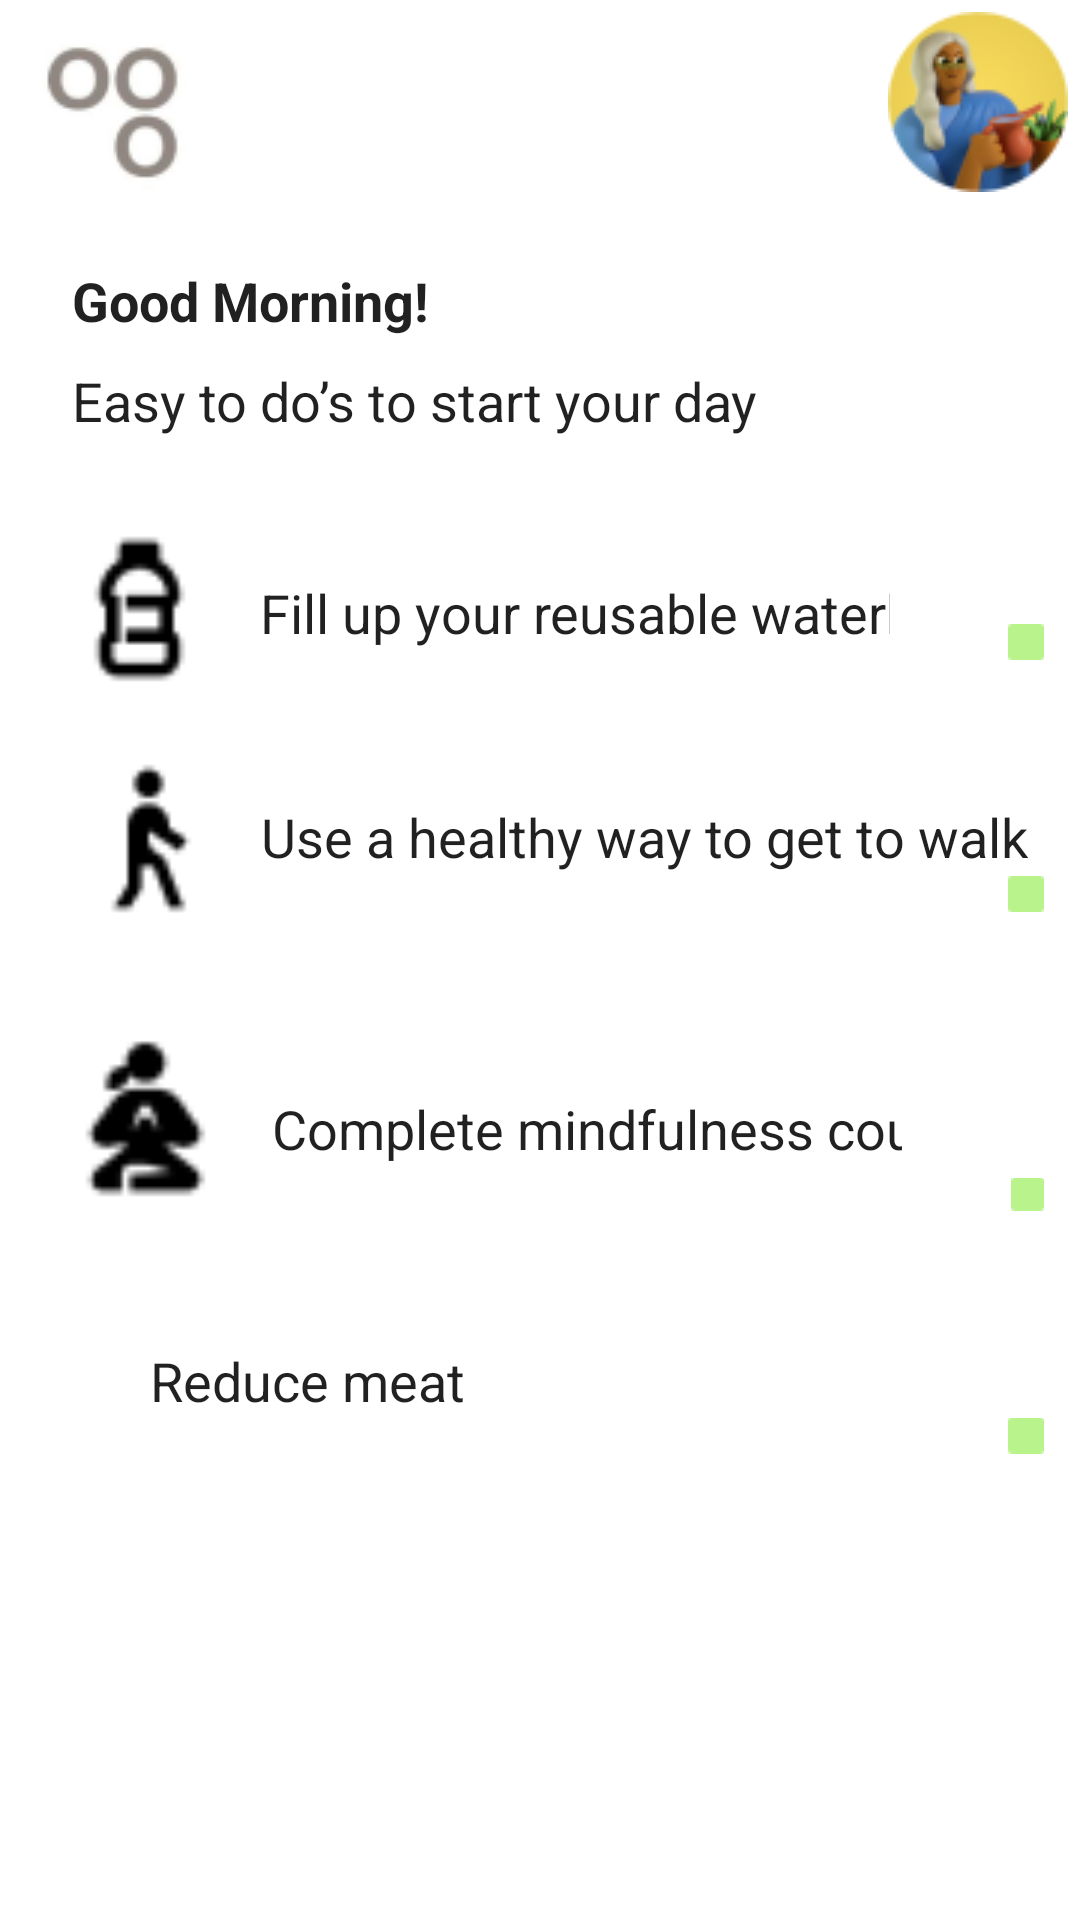

Locate icon controls on the screen. Image size 1080px×1920px, boxes as [x1, y1, x2, y2].
bottle of water: [94, 537, 185, 681]
female meditation: [86, 1041, 205, 1196]
profile pic: [888, 12, 1068, 192]
walking: [112, 765, 190, 912]
